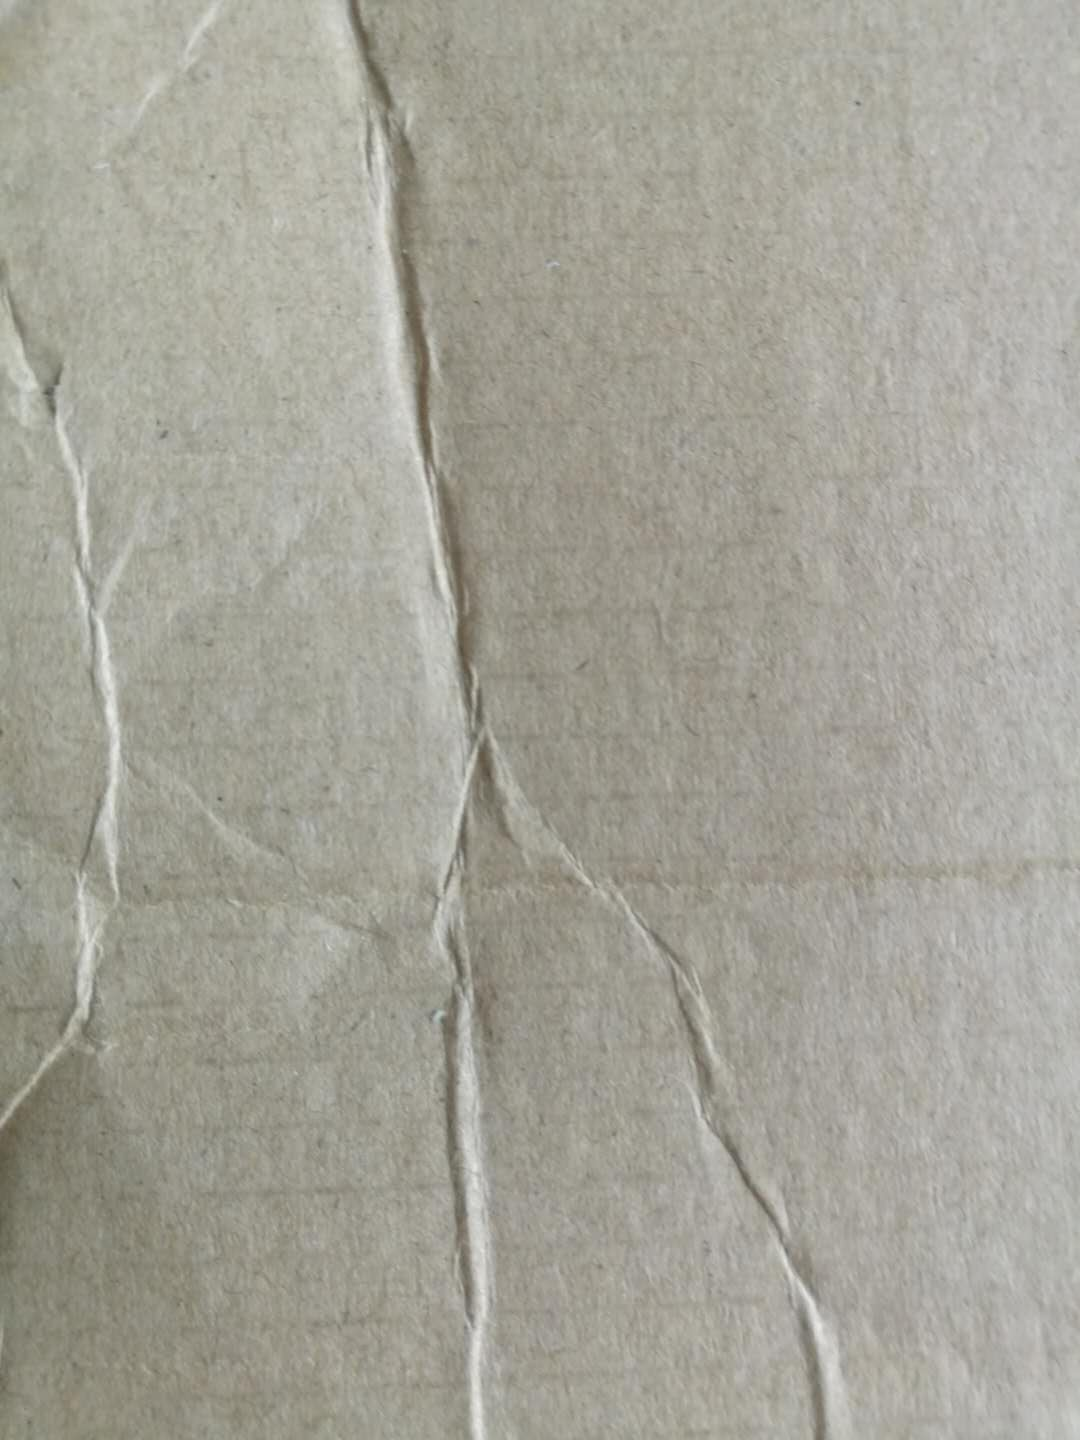defect: (288, 5, 615, 1438), (1, 215, 299, 1170), (5, 791, 1080, 1018), (545, 847, 927, 1440)
